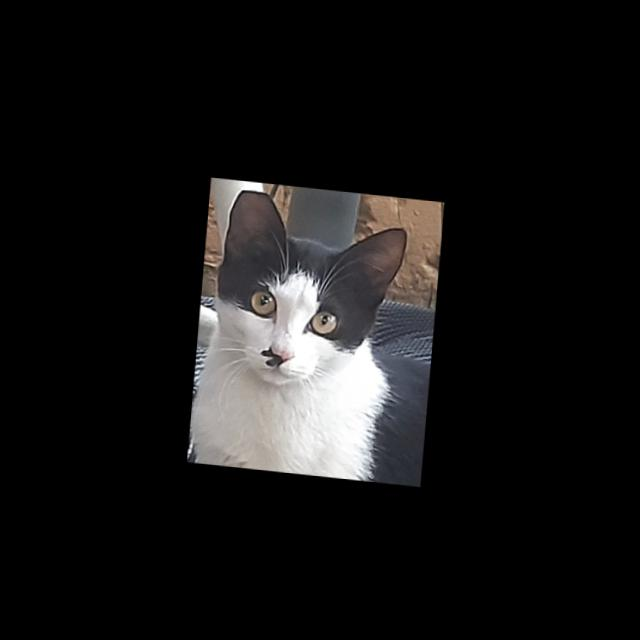animals: (203, 181, 420, 404)
